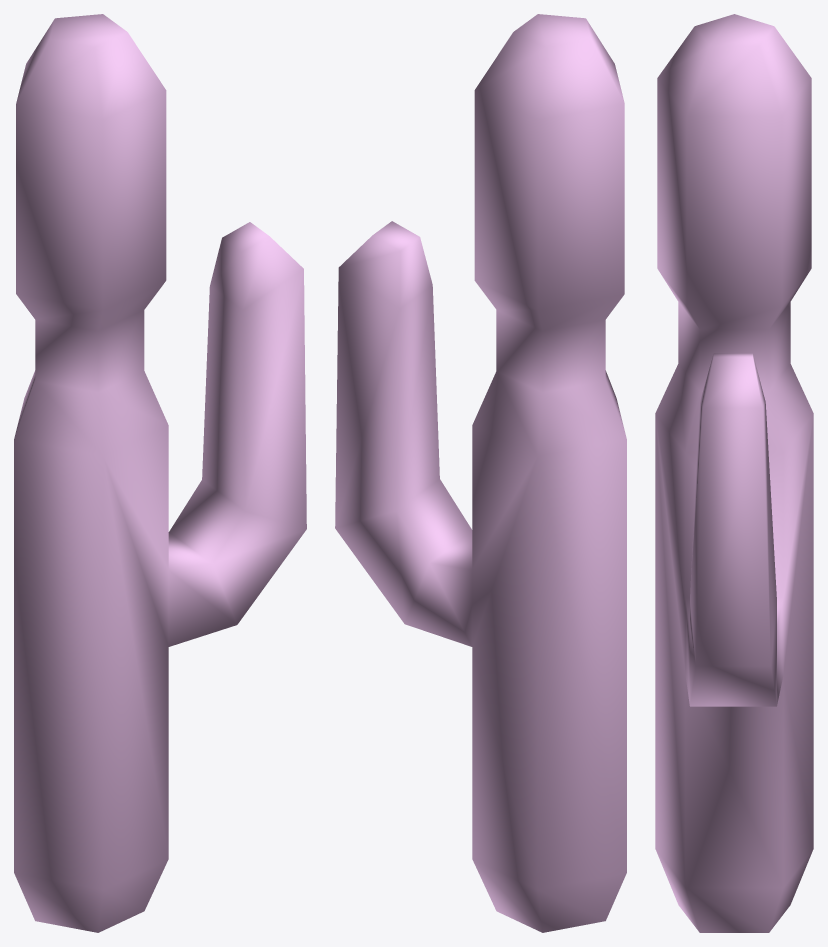
3 renders of one model, left to right at view 1: azimuth 30°, elevation 25°; view 2: azimuth 150°, elevation 25°; view 3: azimuth 270°, elevation 25°, orthographic.
Visible parts, largest first — view 1: Object21; view 2: Object21; view 3: Object21.
Part boxes in pixels (bbox=[...]): Object21: bbox=[14, 14, 306, 932]; Object21: bbox=[335, 14, 626, 932]; Object21: bbox=[655, 14, 813, 932].
Size of the model in its own units: 77.23 by 236 by 38.55.
